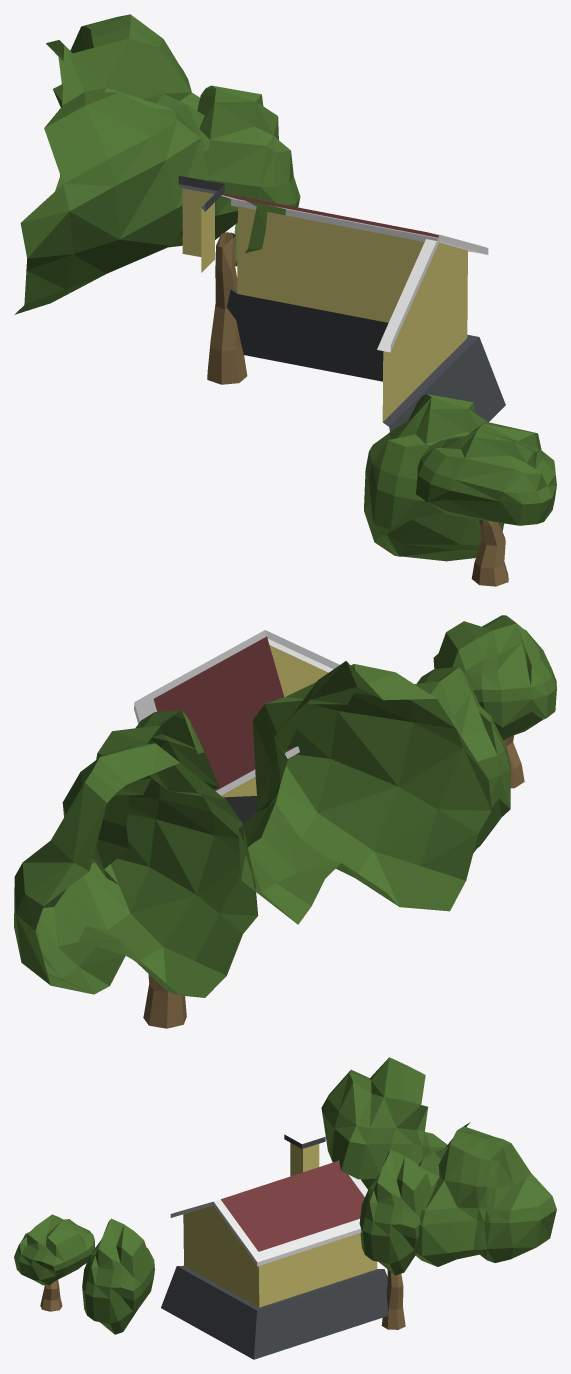
Rendered from Yellow_House2.fbx.
The picture shows the model from 3 angles, top to bottom: view 1: azimuth 30°, elevation 25°; view 2: azimuth 150°, elevation 25°; view 3: azimuth 270°, elevation 25°; orthographic projection. The views are drawn at different scales.
Parts seen in each view (by area): view 1: Yellow_House1; view 2: Yellow_House1; view 3: Yellow_House1.
Part boxes in pixels (x1=…): Yellow_House1: x1=14, y1=14, x2=556, y2=586; Yellow_House1: x1=14, y1=615, x2=556, y2=1028; Yellow_House1: x1=14, y1=1057, x2=556, y2=1359.
Size of the model in its own units: 7.92 by 7.07 by 15.27.
